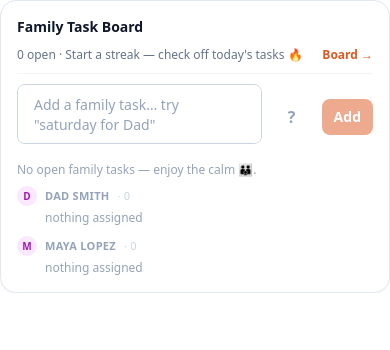
Test: FamilyTaskBoardCard - quick-add scoping (issue 021) › blocks an unknown @member with an inline error instead of silently dropping it
Type "@zorro buy milk" into the dropdown with placeholder "Add a family task… try \"saturday for Dad\"" at (139, 114), box [17,84,262,144]
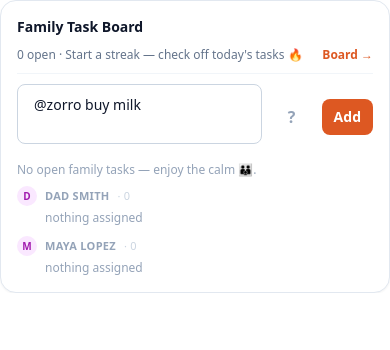
Click the button "Add" at (347, 117), box [322,99,373,135]
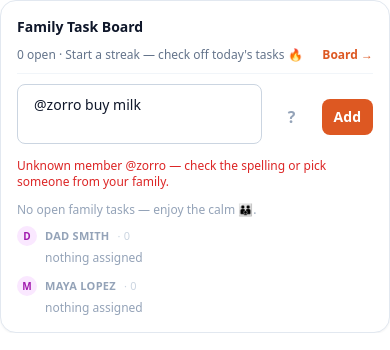
Expected: the text "Unknown member @zorro — check the spelling or pick someone from your family." is shown, [17,158,373,190]
